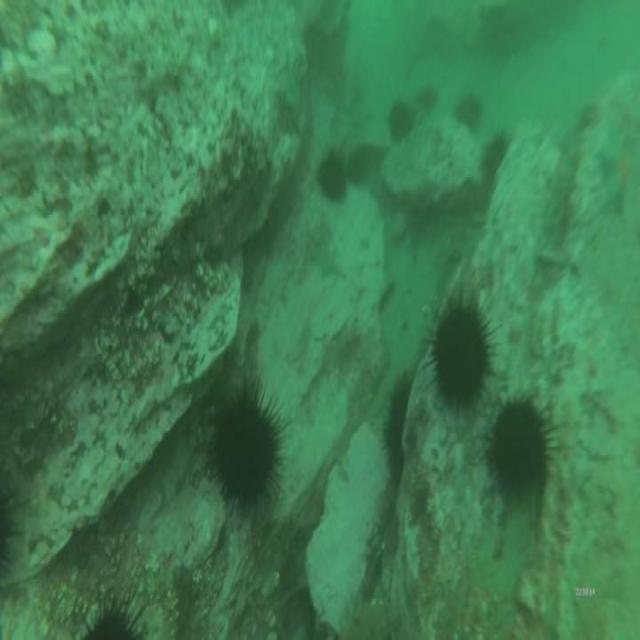echinus: (203, 375, 289, 526), (424, 286, 500, 419), (482, 386, 560, 512), (72, 588, 158, 640), (382, 368, 417, 493), (479, 128, 511, 191), (316, 146, 348, 206), (450, 89, 486, 138), (385, 95, 417, 147), (342, 147, 368, 186), (412, 84, 441, 118)
starfish: (594, 121, 634, 212)
